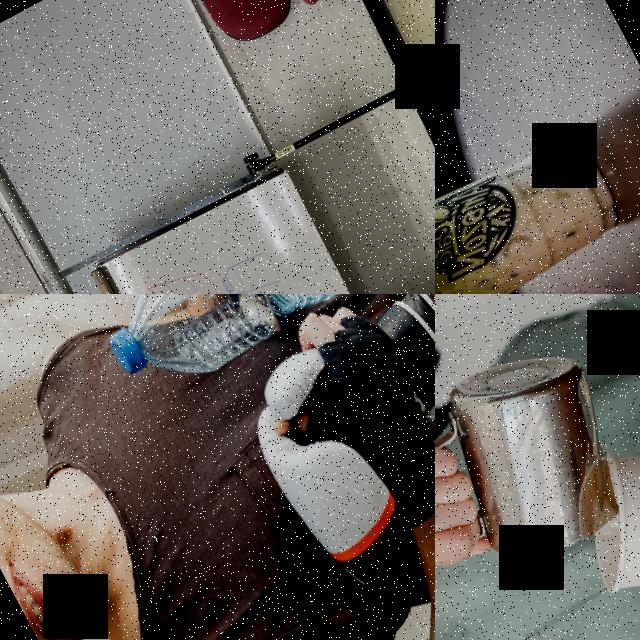bottle: (79, 294, 387, 410)
cup: (435, 102, 640, 294), (547, 386, 640, 640)
